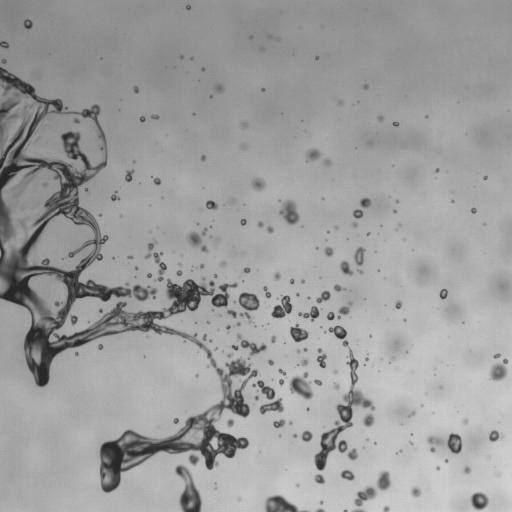droplet: (289, 371, 322, 400), (269, 294, 293, 321), (278, 199, 299, 225), (488, 358, 508, 381), (289, 321, 309, 342), (470, 491, 489, 511), (447, 432, 462, 454), (426, 435, 442, 452), (305, 148, 322, 163), (353, 246, 365, 266), (251, 177, 266, 192), (339, 260, 353, 276), (316, 290, 331, 303), (488, 430, 504, 442), (340, 469, 355, 481), (300, 430, 313, 442), (273, 418, 285, 429), (410, 486, 421, 497), (5, 63, 16, 74), (98, 243, 109, 254), (133, 253, 144, 264), (330, 254, 341, 265), (163, 268, 174, 279), (337, 273, 348, 284), (156, 282, 167, 293), (227, 288, 238, 299), (124, 294, 135, 305), (199, 294, 210, 305), (227, 298, 238, 309), (140, 300, 151, 311), (124, 302, 135, 313), (318, 302, 329, 313), (90, 311, 101, 322), (284, 312, 295, 323), (337, 316, 348, 327), (298, 318, 309, 329), (74, 320, 85, 331), (60, 324, 71, 335), (237, 347, 248, 358), (15, 348, 26, 359), (306, 350, 317, 361), (51, 353, 62, 364), (215, 356, 226, 367), (247, 357, 258, 368), (47, 362, 58, 373), (24, 371, 35, 382), (212, 391, 223, 402), (248, 401, 259, 412), (351, 404, 362, 415), (222, 407, 233, 418), (268, 409, 279, 420), (215, 421, 226, 432), (166, 425, 177, 436), (154, 430, 165, 441), (437, 441, 448, 452), (326, 450, 337, 461), (177, 451, 188, 462), (214, 452, 225, 463), (90, 455, 101, 466), (344, 459, 355, 470), (367, 476, 378, 487), (174, 482, 185, 493), (125, 169, 134, 182), (205, 200, 218, 209), (150, 175, 161, 185), (110, 190, 120, 201), (314, 474, 325, 484), (333, 284, 346, 292), (23, 19, 33, 29), (214, 83, 224, 93), (72, 117, 83, 126), (324, 246, 333, 257), (296, 358, 308, 366), (323, 157, 332, 167), (225, 417, 234, 427), (439, 288, 447, 299), (394, 300, 403, 309), (462, 465, 471, 474), (382, 117, 391, 126), (299, 145, 308, 154), (298, 150, 307, 159), (313, 157, 322, 166), (255, 170, 264, 179), (261, 186, 270, 195), (248, 187, 257, 196), (199, 235, 208, 244), (90, 259, 99, 268), (348, 261, 357, 270), (280, 273, 289, 282), (77, 274, 86, 283), (175, 277, 184, 286), (139, 278, 148, 287), (105, 280, 114, 289), (256, 291, 265, 300), (109, 294, 118, 303), (92, 296, 101, 305), (164, 297, 173, 306), (5, 300, 14, 309), (317, 311, 326, 320), (225, 315, 234, 324), (56, 326, 65, 335), (64, 346, 73, 355), (482, 367, 491, 376), (294, 368, 303, 377), (495, 378, 504, 387), (269, 380, 278, 389), (309, 383, 318, 392), (340, 384, 349, 393), (361, 390, 370, 399), (292, 392, 301, 401), (259, 395, 268, 404), (190, 407, 199, 416), (232, 413, 241, 422), (107, 432, 116, 441), (91, 445, 100, 454), (156, 449, 165, 458), (197, 454, 206, 463), (375, 488, 384, 497), (198, 491, 207, 500), (285, 494, 294, 503), (361, 499, 370, 508), (240, 121, 249, 129), (273, 271, 281, 280), (326, 311, 334, 320), (505, 362, 511, 373), (172, 505, 183, 511), (219, 259, 227, 267), (0, 41, 9, 48), (227, 197, 236, 204), (377, 114, 384, 122), (239, 143, 247, 150), (266, 225, 273, 233), (0, 92, 5, 103), (333, 381, 339, 390), (336, 99, 343, 106), (257, 221, 264, 228), (20, 75, 27, 82), (33, 88, 40, 95), (47, 93, 54, 100), (311, 142, 318, 149), (319, 152, 326, 159), (99, 167, 106, 174), (77, 184, 84, 191), (276, 202, 283, 209), (354, 202, 361, 209), (294, 206, 301, 213), (95, 217, 102, 224), (279, 217, 286, 224), (291, 222, 298, 229), (194, 227, 201, 234), (326, 240, 333, 247), (152, 245, 159, 252), (193, 245, 200, 252), (141, 246, 148, 253), (317, 248, 324, 255), (159, 255, 166, 262), (152, 263, 159, 270), (335, 267, 342, 274), (151, 271, 158, 278), (194, 278, 201, 285), (214, 278, 221, 285), (226, 286, 233, 293), (328, 287, 335, 294), (118, 295, 125, 302), (73, 297, 80, 304), (315, 302, 322, 309), (218, 305, 225, 312), (348, 305, 355, 312), (290, 306, 297, 313), (64, 315, 71, 322), (152, 317, 159, 324), (329, 319, 336, 326), (23, 324, 30, 331), (147, 328, 154, 335), (161, 332, 168, 339), (171, 333, 178, 340), (96, 336, 103, 343), (263, 338, 270, 345), (298, 339, 305, 346), (206, 342, 213, 349), (76, 344, 83, 351), (211, 351, 218, 358), (299, 351, 306, 358), (495, 357, 502, 364), (271, 363, 278, 370), (22, 365, 29, 372), (208, 366, 215, 373), (222, 366, 229, 373), (354, 367, 361, 374), (213, 374, 220, 381), (332, 374, 339, 381), (250, 376, 257, 383), (283, 379, 290, 386), (353, 382, 360, 389), (240, 389, 247, 396), (280, 399, 287, 406), (372, 417, 379, 424), (178, 420, 185, 427), (369, 423, 376, 430), (364, 425, 371, 432), (137, 428, 144, 435), (431, 430, 438, 437), (232, 431, 239, 438), (335, 434, 342, 441), (314, 445, 321, 452), (234, 447, 241, 454), (186, 448, 193, 455), (437, 459, 444, 466), (381, 464, 388, 471), (312, 467, 319, 474), (93, 470, 100, 477), (119, 470, 126, 477), (387, 474, 394, 481), (194, 483, 201, 490), (358, 484, 365, 491), (471, 486, 478, 493), (404, 487, 411, 494), (110, 488, 117, 495), (419, 488, 426, 495), (270, 489, 277, 496), (416, 494, 423, 501), (465, 499, 472, 506), (295, 503, 302, 510), (133, 85, 139, 93), (270, 335, 276, 343), (150, 114, 159, 119), (198, 506, 207, 511), (139, 115, 145, 122), (200, 154, 206, 161), (84, 187, 90, 194), (240, 218, 246, 225), (267, 359, 274, 365), (382, 505, 389, 511), (493, 353, 501, 358), (470, 207, 476, 213), (352, 222, 358, 228), (176, 262, 182, 268), (176, 270, 182, 276), (146, 273, 152, 279), (462, 418, 468, 424), (495, 471, 501, 477), (0, 297, 4, 306), (172, 418, 179, 423), (363, 84, 369, 89), (433, 168, 439, 173), (357, 269, 363, 274), (289, 278, 294, 284), (98, 344, 103, 350), (296, 348, 301, 354), (254, 395, 259, 401), (392, 122, 399, 126), (126, 255, 133, 259), (259, 507, 266, 511), (471, 507, 478, 511), (479, 507, 486, 511), (334, 225, 339, 230), (333, 369, 338, 374), (292, 433, 297, 438), (408, 440, 413, 445), (486, 455, 491, 460), (295, 482, 300, 487), (183, 55, 188, 60), (0, 63, 5, 68), (137, 85, 142, 90), (128, 87, 133, 92), (209, 89, 214, 94), (212, 91, 217, 96), (92, 99, 97, 104), (61, 101, 66, 106), (86, 104, 91, 109), (77, 107, 82, 112), (151, 109, 156, 114), (96, 114, 101, 119), (144, 114, 149, 119), (372, 116, 377, 121), (101, 126, 106, 131), (104, 133, 109, 138), (200, 149, 205, 154), (196, 153, 201, 158), (204, 156, 209, 161), (329, 156, 334, 161), (106, 159, 111, 164), (121, 171, 126, 176), (130, 172, 135, 177), (159, 177, 164, 182), (152, 183, 157, 188), (361, 193, 366, 198), (210, 196, 215, 201), (77, 201, 82, 206), (393, 204, 398, 209), (208, 208, 213, 213), (92, 212, 97, 217), (258, 216, 263, 221), (354, 217, 359, 222), (270, 222, 275, 227), (392, 222, 397, 227), (347, 223, 352, 228), (261, 225, 266, 230), (272, 226, 277, 231), (354, 226, 359, 231), (329, 227, 334, 232), (205, 230, 210, 235), (270, 231, 275, 236), (325, 233, 330, 238), (147, 238, 152, 243), (361, 243, 366, 248), (332, 248, 337, 253), (350, 249, 355, 254), (200, 250, 205, 255), (362, 251, 367, 256), (149, 255, 154, 260), (327, 255, 332, 260), (177, 257, 182, 262), (215, 258, 220, 263), (194, 261, 199, 266), (243, 262, 248, 267), (358, 264, 363, 269), (175, 265, 180, 270), (180, 266, 185, 271), (132, 269, 137, 274), (352, 270, 357, 275), (344, 273, 349, 278), (269, 274, 274, 279), (94, 279, 99, 284), (162, 279, 167, 284), (227, 279, 232, 284), (236, 279, 241, 284), (120, 282, 125, 287), (339, 282, 344, 287), (128, 284, 133, 289), (246, 288, 251, 293), (339, 289, 344, 294), (154, 291, 159, 296), (316, 292, 321, 297), (83, 295, 88, 300), (226, 297, 231, 302), (321, 299, 326, 304), (342, 301, 347, 306), (400, 303, 405, 308), (268, 306, 273, 311), (240, 307, 245, 312), (305, 307, 310, 312), (193, 308, 198, 313), (177, 311, 182, 316), (333, 311, 338, 316), (284, 312, 289, 317), (227, 313, 232, 318), (340, 313, 345, 318), (273, 316, 278, 321), (323, 325, 328, 330), (134, 328, 139, 333), (127, 329, 132, 334), (188, 330, 193, 335), (329, 331, 334, 336), (104, 334, 109, 339), (205, 334, 210, 339), (196, 335, 201, 340), (343, 335, 348, 340), (288, 336, 293, 341), (274, 337, 279, 342), (247, 338, 252, 343), (338, 338, 343, 343), (255, 342, 260, 347), (193, 344, 198, 349), (217, 345, 222, 350), (237, 345, 242, 350), (245, 346, 250, 351), (343, 346, 348, 351), (258, 350, 263, 355), (202, 351, 207, 356), (353, 354, 358, 359), (271, 356, 276, 361), (384, 356, 389, 361), (205, 358, 210, 363), (226, 358, 231, 363), (323, 358, 328, 363), (357, 361, 362, 366), (249, 365, 254, 370), (345, 365, 350, 370), (278, 373, 283, 378), (304, 376, 309, 381), (346, 377, 351, 382), (329, 383, 334, 388), (256, 386, 261, 391), (271, 396, 276, 401), (215, 398, 220, 403), (371, 400, 376, 405), (406, 408, 411, 413), (370, 410, 375, 415), (246, 413, 251, 418), (335, 415, 340, 420), (349, 417, 354, 422), (283, 421, 288, 426), (331, 423, 336, 428), (490, 425, 495, 430), (277, 426, 282, 431), (308, 427, 313, 432), (323, 427, 328, 432), (496, 428, 501, 433), (452, 429, 457, 434), (484, 432, 489, 437), (296, 433, 301, 438), (444, 434, 449, 439), (408, 435, 413, 440), (246, 436, 251, 441), (368, 438, 373, 443), (495, 438, 500, 443), (334, 439, 339, 444), (302, 440, 307, 445), (362, 440, 367, 445), (491, 440, 496, 445), (426, 443, 431, 448), (460, 445, 465, 450), (345, 447, 350, 452), (445, 447, 450, 452), (355, 449, 360, 454), (229, 456, 234, 461), (354, 457, 359, 462), (467, 463, 472, 468), (211, 465, 216, 470), (342, 465, 347, 470), (459, 465, 464, 470), (128, 467, 133, 472), (317, 469, 322, 474), (351, 469, 356, 474), (465, 472, 470, 477), (342, 477, 347, 482), (316, 482, 321, 487), (97, 486, 102, 491), (353, 493, 358, 498), (383, 501, 388, 506), (316, 503, 321, 508), (319, 504, 324, 509), (353, 504, 358, 509), (367, 141, 373, 145), (184, 0, 191, 3), (186, 5, 190, 10), (180, 54, 184, 59), (483, 175, 487, 180), (134, 265, 138, 270), (213, 273, 217, 278), (300, 279, 305, 283), (302, 347, 307, 351), (195, 373, 199, 378), (288, 420, 292, 425), (278, 433, 282, 438), (444, 458, 448, 463), (436, 465, 440, 470), (315, 56, 319, 60), (201, 67, 205, 71), (209, 94, 213, 98), (424, 114, 428, 118), (395, 199, 399, 203), (393, 209, 397, 213), (98, 213, 102, 217), (366, 232, 370, 236), (206, 320, 210, 324), (296, 292, 299, 297), (75, 351, 78, 356), (306, 406, 309, 411), (378, 508, 383, 511), (387, 508, 392, 511), (249, 35, 252, 39), (190, 56, 193, 60), (261, 88, 265, 91), (132, 160, 136, 163), (450, 200, 454, 203), (326, 230, 330, 233), (315, 246, 319, 249), (180, 253, 183, 257), (439, 385, 442, 389), (365, 438, 369, 441), (342, 509, 347, 511), (0, 36, 2, 41), (192, 112, 195, 115), (321, 197, 324, 200), (148, 204, 151, 207), (119, 214, 122, 217), (196, 222, 199, 225), (209, 225, 212, 228), (374, 250, 377, 253), (307, 296, 310, 299), (403, 318, 406, 321), (194, 321, 197, 324), (266, 322, 269, 325), (146, 335, 149, 338), (369, 334, 372, 337), (405, 350, 408, 353), (363, 363, 366, 366), (424, 392, 427, 395), (420, 404, 423, 407), (410, 432, 413, 435), (258, 450, 261, 453), (182, 5, 185, 8), (190, 5, 193, 8), (186, 9, 189, 12), (27, 16, 30, 19), (30, 18, 33, 21), (20, 20, 23, 23), (31, 24, 34, 27), (24, 27, 27, 30), (7, 41, 10, 44), (181, 52, 184, 55), (315, 52, 318, 55), (312, 55, 315, 58), (318, 56, 321, 59), (315, 59, 318, 62), (202, 64, 205, 67), (198, 68, 201, 71), (362, 81, 365, 84), (261, 84, 264, 87), (257, 87, 260, 90), (262, 90, 265, 93), (133, 92, 136, 95), (206, 93, 209, 96), (209, 97, 212, 100), (189, 110, 192, 113), (194, 110, 197, 113), (424, 111, 427, 114), (157, 112, 160, 115), (138, 113, 141, 116), (421, 114, 424, 117), (427, 114, 430, 117), (192, 115, 195, 118), (158, 116, 161, 119), (136, 117, 139, 120), (423, 117, 426, 120), (153, 118, 156, 121), (392, 118, 395, 121), (140, 121, 143, 124), (389, 123, 392, 126), (393, 125, 396, 128), (132, 156, 135, 159), (135, 159, 138, 162), (128, 167, 131, 170), (432, 167, 435, 170), (438, 168, 441, 171), (149, 172, 152, 175), (434, 172, 437, 175), (483, 172, 486, 175), (486, 176, 489, 179), (483, 179, 486, 182), (124, 180, 127, 183), (129, 180, 132, 183), (115, 192, 118, 195), (324, 196, 327, 199), (451, 196, 454, 199), (108, 198, 111, 201), (280, 198, 283, 201), (398, 198, 401, 201), (114, 199, 117, 202), (392, 199, 395, 202), (447, 199, 450, 202), (203, 200, 206, 203), (453, 200, 456, 203), (450, 202, 453, 205), (471, 204, 474, 207), (98, 210, 101, 213), (390, 210, 393, 213), (468, 210, 471, 213), (475, 210, 478, 213), (393, 212, 396, 215), (240, 215, 243, 218), (194, 219, 197, 222), (197, 219, 200, 222), (245, 220, 248, 223), (238, 223, 241, 226), (211, 224, 214, 227), (242, 224, 245, 227), (206, 226, 209, 229), (397, 227, 400, 230), (365, 229, 368, 232), (368, 233, 371, 236), (212, 234, 215, 237), (155, 237, 158, 240), (345, 239, 348, 242), (104, 240, 107, 243), (316, 243, 319, 246), (313, 248, 316, 251), (156, 250, 159, 253), (128, 252, 131, 255), (101, 253, 104, 256), (113, 254, 116, 257), (94, 258, 97, 261), (127, 258, 130, 261), (99, 259, 102, 262), (111, 259, 114, 262), (199, 260, 202, 263), (203, 264, 206, 267), (137, 265, 140, 268), (131, 266, 134, 269), (191, 266, 194, 269), (240, 266, 243, 269), (375, 266, 378, 269), (379, 267, 382, 270), (249, 268, 252, 271), (144, 271, 147, 274), (376, 271, 379, 274), (245, 272, 248, 275), (286, 278, 289, 281), (293, 279, 296, 282), (304, 279, 307, 282), (290, 283, 293, 286), (442, 285, 445, 288), (346, 287, 349, 290), (266, 288, 269, 291), (446, 288, 449, 291), (262, 290, 265, 293), (298, 291, 301, 294), (436, 291, 439, 294), (282, 292, 285, 295), (305, 293, 308, 296), (446, 293, 449, 296), (436, 294, 439, 297), (304, 297, 307, 300), (443, 297, 446, 300), (392, 304, 395, 307), (394, 307, 397, 310), (398, 307, 401, 310), (95, 308, 98, 311), (235, 313, 238, 316), (333, 315, 336, 318), (205, 317, 208, 320), (405, 317, 408, 320), (208, 318, 211, 321), (460, 318, 463, 321), (400, 319, 403, 322), (254, 321, 257, 324), (204, 322, 207, 325), (250, 322, 253, 325), (224, 323, 227, 326), (461, 323, 464, 326), (262, 325, 265, 328), (229, 326, 232, 329), (343, 326, 346, 329), (253, 327, 256, 330), (224, 328, 227, 331), (307, 333, 310, 336), (371, 333, 374, 336), (365, 334, 368, 337), (369, 337, 372, 340), (211, 338, 214, 341), (347, 342, 350, 345), (102, 344, 105, 347), (350, 347, 353, 350), (96, 348, 99, 351), (100, 348, 103, 351), (231, 348, 234, 351), (300, 349, 303, 352), (407, 349, 410, 352), (493, 351, 496, 354), (364, 354, 367, 357), (74, 355, 77, 358), (140, 355, 143, 358), (367, 355, 370, 358), (363, 360, 366, 363), (385, 360, 388, 363), (390, 360, 393, 363), (316, 361, 319, 364), (293, 362, 296, 365), (319, 366, 322, 369), (432, 370, 435, 373), (192, 372, 195, 375), (192, 375, 195, 378), (197, 375, 200, 378), (315, 376, 318, 379), (423, 403, 426, 406), (417, 404, 420, 407), (303, 406, 306, 409), (308, 406, 311, 409), (414, 412, 417, 415), (174, 414, 177, 417), (410, 415, 413, 418), (170, 418, 173, 421), (276, 418, 279, 421), (291, 419, 294, 422), (467, 420, 470, 423), (270, 423, 273, 426), (410, 429, 413, 432), (412, 432, 415, 435), (280, 435, 283, 438), (363, 435, 366, 438), (374, 438, 377, 441), (407, 442, 410, 445), (395, 448, 398, 451), (430, 451, 433, 454), (441, 458, 444, 461), (433, 465, 436, 468), (212, 483, 215, 486), (216, 483, 219, 486), (292, 483, 295, 486), (298, 485, 301, 488), (294, 486, 297, 489), (216, 487, 219, 490), (343, 506, 346, 509), (483, 222, 485, 226), (211, 309, 215, 311), (392, 164, 394, 167), (161, 196, 163, 199), (300, 225, 303, 227), (380, 224, 383, 226), (148, 230, 151, 232), (403, 238, 405, 241), (112, 256, 114, 259), (377, 269, 380, 271), (134, 275, 136, 278), (319, 276, 321, 279), (383, 277, 386, 279), (88, 320, 90, 323), (254, 324, 256, 327), (319, 326, 322, 328), (217, 328, 219, 331), (284, 340, 286, 343), (380, 358, 383, 360), (433, 368, 436, 370), (374, 441, 376, 444), (362, 446, 365, 448), (347, 509, 350, 511), (100, 57, 102, 59), (357, 101, 359, 103), (243, 203, 245, 205), (377, 232, 379, 234), (242, 280, 244, 282), (384, 304, 386, 306), (462, 321, 464, 323), (317, 337, 319, 339), (143, 355, 145, 357), (271, 378, 273, 380), (400, 423, 402, 425), (0, 45, 1, 48), (0, 58, 1, 61), (281, 112, 282, 114), (346, 238, 348, 239), (261, 325, 263, 326), (197, 351, 199, 352), (432, 412, 434, 413), (364, 298, 365, 299)
ligament: (313, 324, 374, 471), (144, 237, 167, 283), (264, 494, 311, 511), (352, 197, 371, 218), (336, 301, 352, 320), (316, 348, 327, 368), (225, 321, 241, 334), (278, 368, 287, 387), (238, 267, 250, 277), (190, 263, 204, 271), (262, 286, 271, 298), (268, 35, 280, 41), (32, 136, 40, 144), (395, 222, 402, 231), (388, 356, 395, 364), (407, 410, 415, 417), (364, 350, 369, 361), (395, 449, 402, 454), (214, 313, 222, 317), (213, 482, 217, 490), (237, 496, 241, 503), (265, 304, 270, 308), (388, 195, 391, 197), (324, 239, 327, 241)
